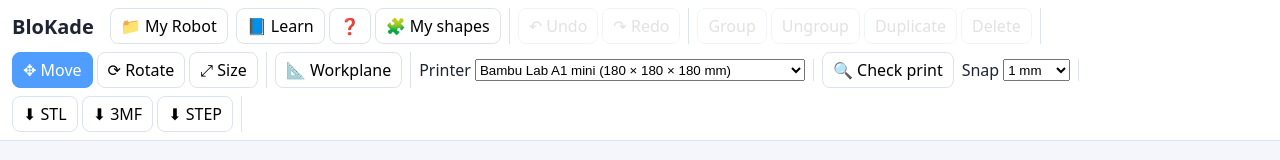
it: Toolbar › checks the print, and shows it is working
Click the button with test id "check-print" at (888, 70), box [822, 52, 954, 88]
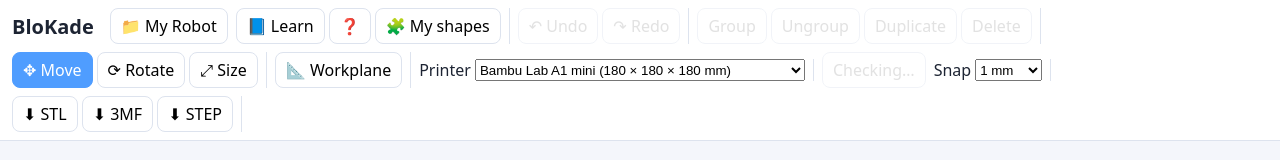
Now the button with test id "check-print" reads "Checking…", box [822, 52, 926, 88]
Now the button with test id "check-print" is disabled, box [822, 52, 926, 88]
